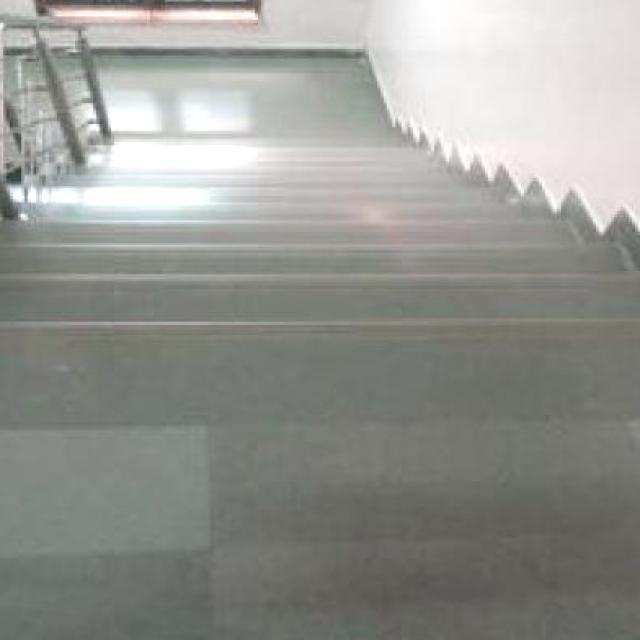stair: (31, 158, 602, 374)
